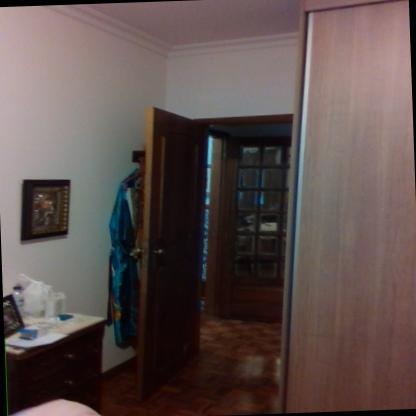open: (118, 99, 336, 406)
